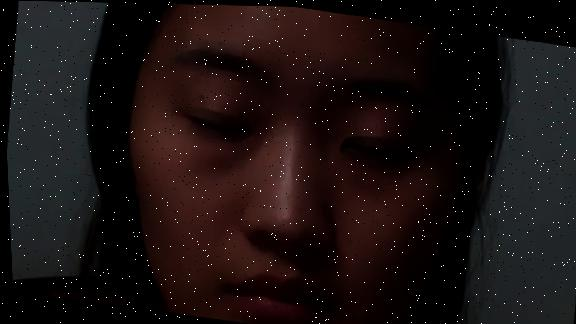eye: (207, 117, 233, 134), (358, 138, 379, 157)
iris: (342, 137, 410, 160), (187, 113, 251, 137)
